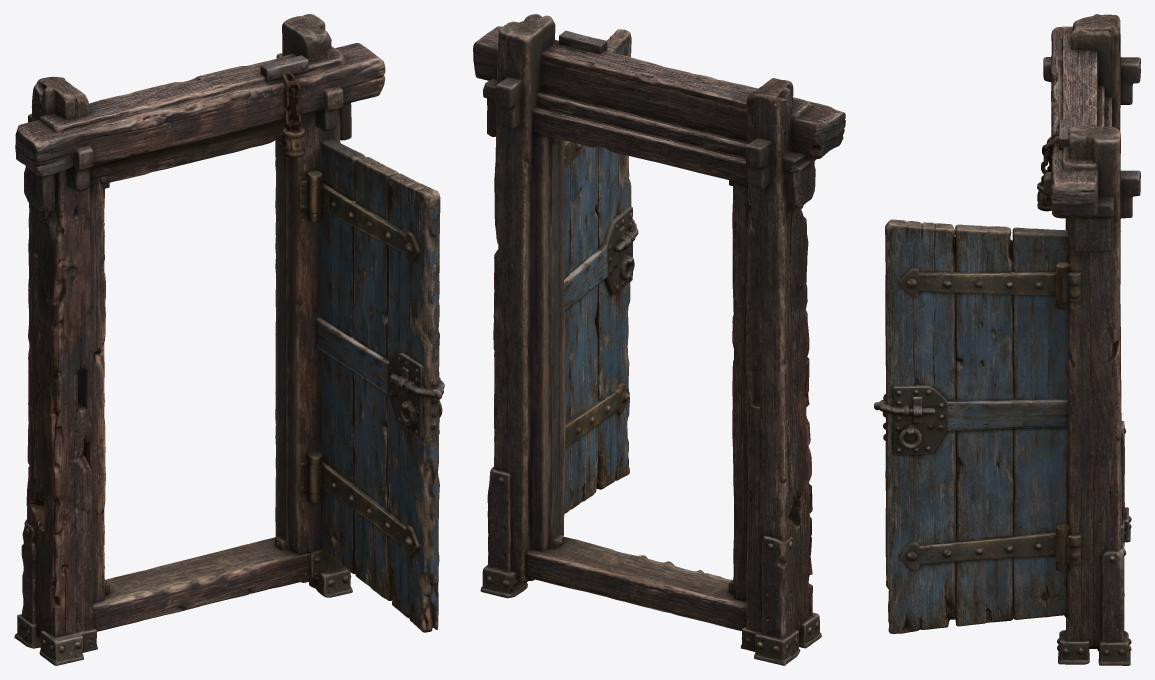
File: door_tripo_h31_raw.glb
The picture shows the model from 3 angles, left to right: view 1: azimuth 30°, elevation 25°; view 2: azimuth 150°, elevation 25°; view 3: azimuth 270°, elevation 25°; orthographic projection. The views are drawn at different scales.
Parts seen in each view (by area): view 1: tripo_node_86a25cb0-61b8-4502-ad5d-8820020e0ee2; view 2: tripo_node_86a25cb0-61b8-4502-ad5d-8820020e0ee2; view 3: tripo_node_86a25cb0-61b8-4502-ad5d-8820020e0ee2.
Part boxes in pixels (x1,y1,x2,y2): tripo_node_86a25cb0-61b8-4502-ad5d-8820020e0ee2: (14, 14, 444, 665); tripo_node_86a25cb0-61b8-4502-ad5d-8820020e0ee2: (473, 14, 845, 665); tripo_node_86a25cb0-61b8-4502-ad5d-8820020e0ee2: (874, 14, 1140, 665).
Size of the model in its own units: 0.6576 by 1 by 0.4637.
1 material, 1 textured.
